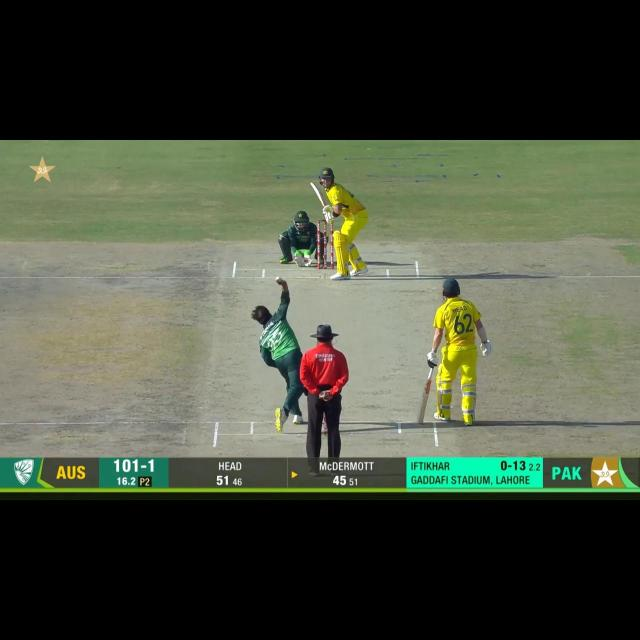bat: (417, 379, 431, 426), (308, 180, 325, 206)
toe: (416, 411, 427, 424), (308, 180, 318, 192)
